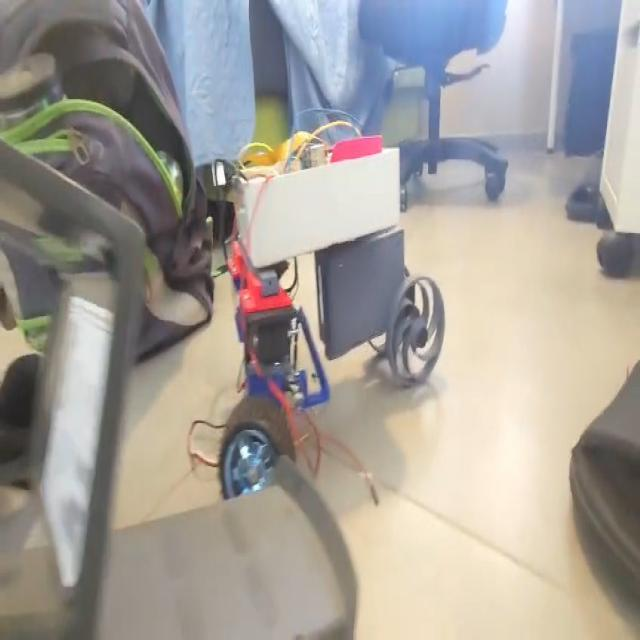Robot: (216, 128, 447, 504)
